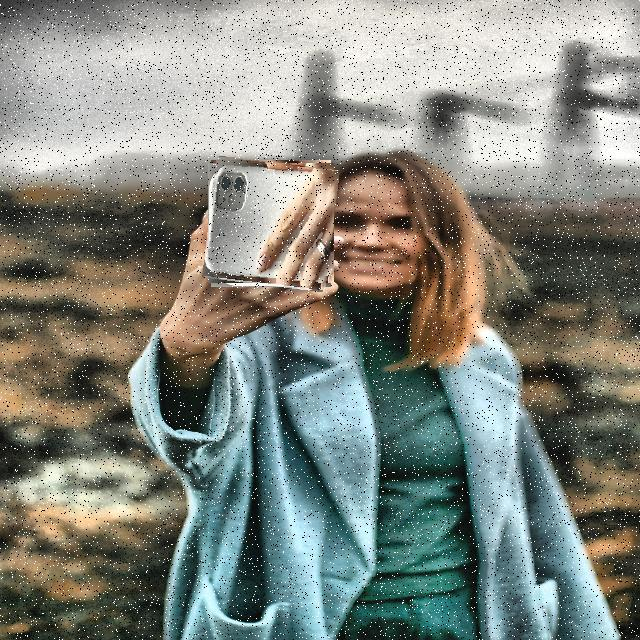Phone: (206, 158, 336, 288)
